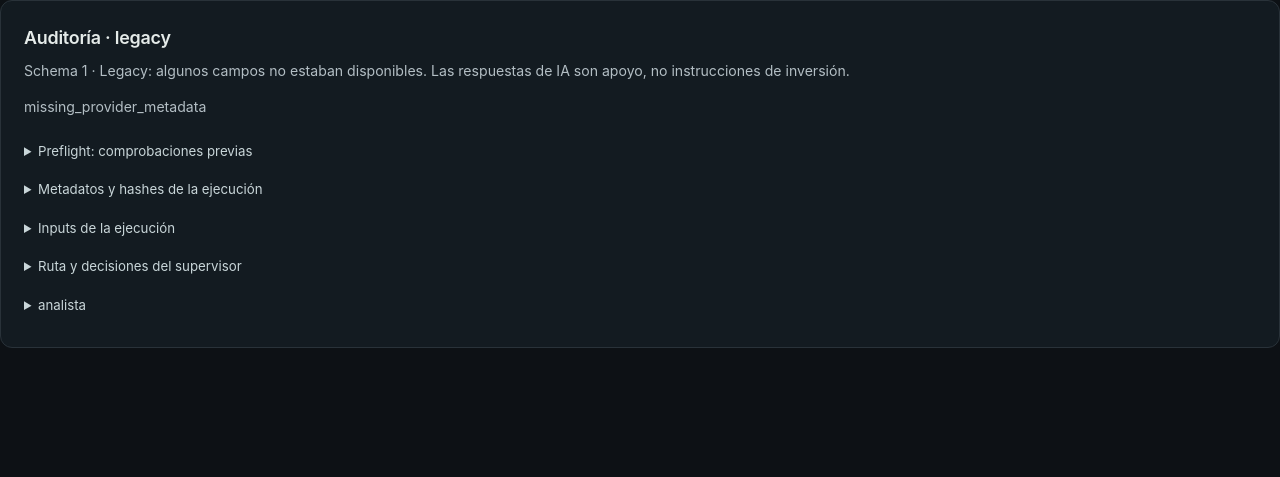
operational safety › renders legacy audit and untrusted HTML as inert text
Click the heading "analista" at (62, 305), box [38,297,86,313]
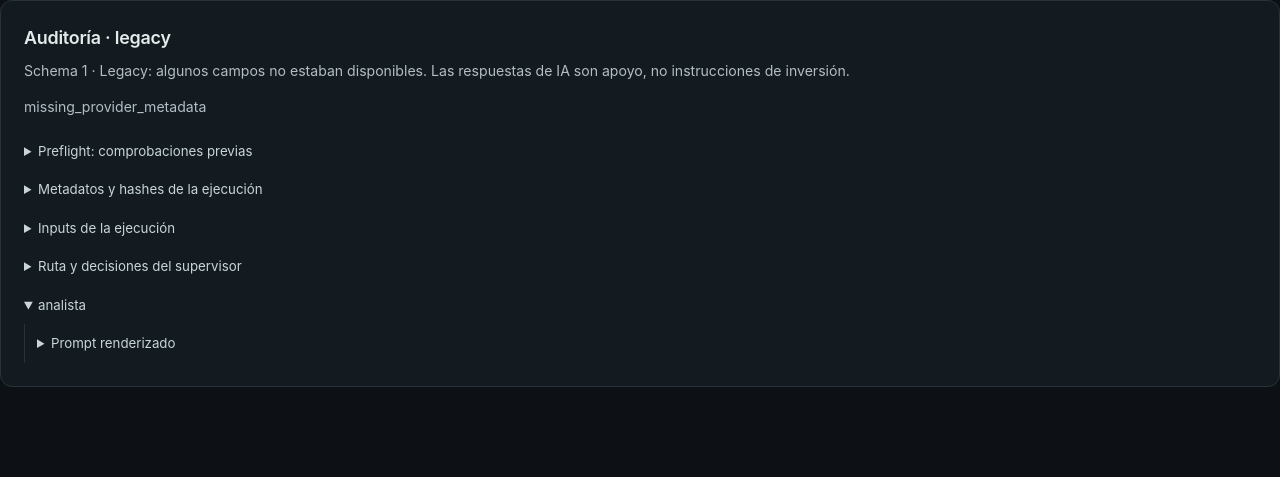
Click the heading "Prompt renderizado" at (113, 343), box [51,335,175,351]
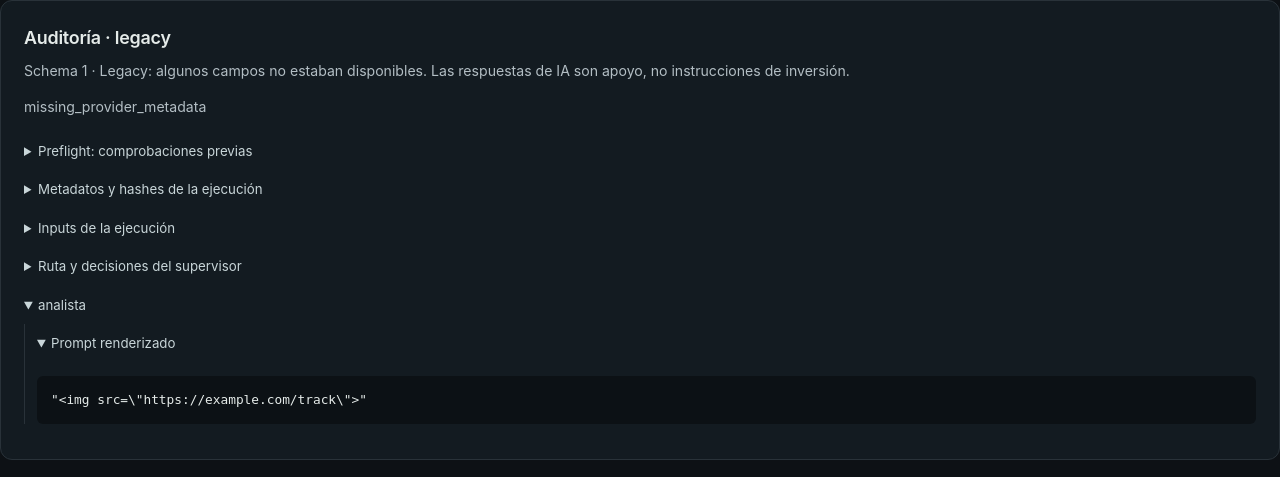
Expected: the text "\"<img src=\\\"https://example.com/track\\\">\"" is shown, [37,376,1256,424]
